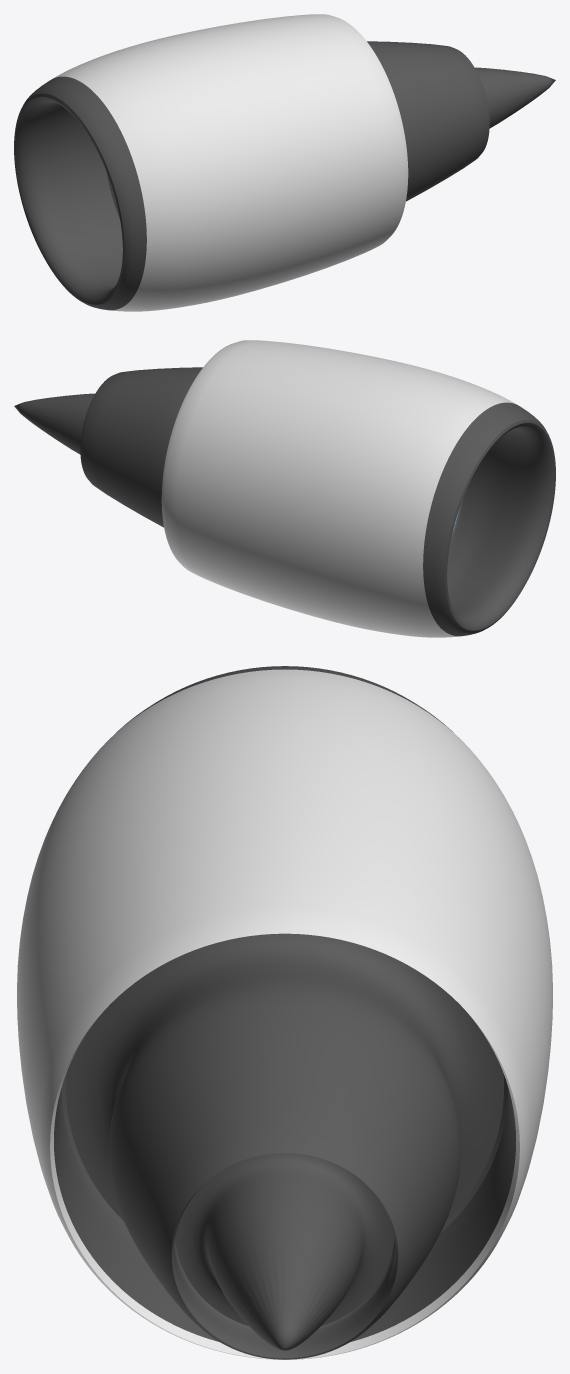
3 renders of one model, top to bottom at view 1: azimuth 30°, elevation 25°; view 2: azimuth 150°, elevation 25°; view 3: azimuth 270°, elevation 25°, orthographic. The views are drawn at different scales.
Visible parts, largest first — view 1: Circle, Circle.002, Circle.003; view 2: Circle, Circle.002, Circle.003; view 3: Circle.003, Circle, Circle.002.
Boxes of the visible parts, x1,y1,x2,y2 form: Circle: (53,14,408,311); Circle.002: (14,76,146,310); Circle.003: (367,41,555,201); Circle: (161,340,516,637); Circle.002: (423,402,555,636); Circle.003: (14,367,202,527); Circle.003: (54,933,515,1359); Circle: (17,669,552,1359); Circle.002: (116,666,453,732).
Size of the model in its own units: 0.7694 by 0.3615 by 0.3615.
Materials: 3 (1 with a texture image).
